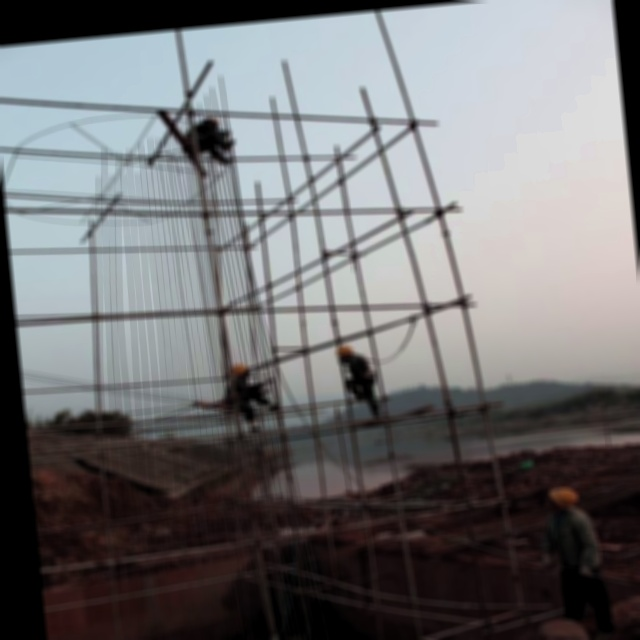Con_Casco: (542, 485, 581, 516), (231, 362, 252, 381), (336, 344, 355, 362)
